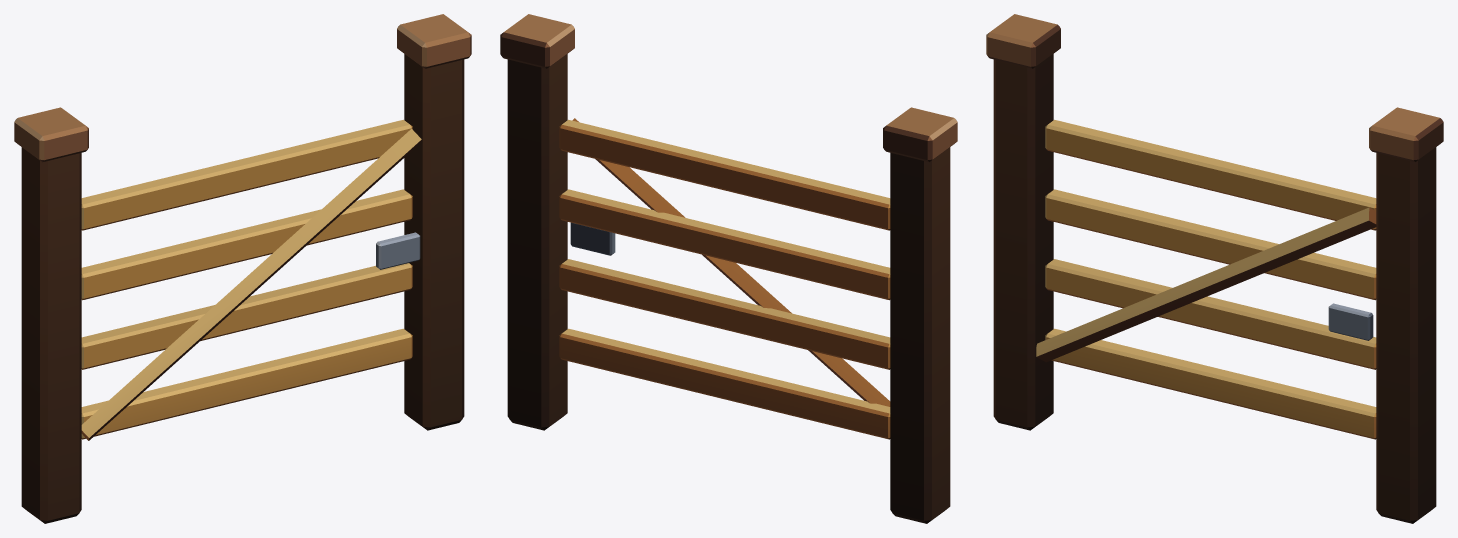
File: wooden_gate.glb
The picture shows the model from 3 angles, left to right: view 1: azimuth 30°, elevation 25°; view 2: azimuth 150°, elevation 25°; view 3: azimuth 330°, elevation 25°; orthographic projection.
Visible parts, largest first — view 1: wooden_gate; view 2: wooden_gate; view 3: wooden_gate.
Boxes of the visible parts, <box> form: wooden_gate: <box>14,14,471,523</box>; wooden_gate: <box>500,14,957,523</box>; wooden_gate: <box>986,14,1443,523</box>.
Size of the model in its own units: 1.04 by 0.9 by 0.12.
